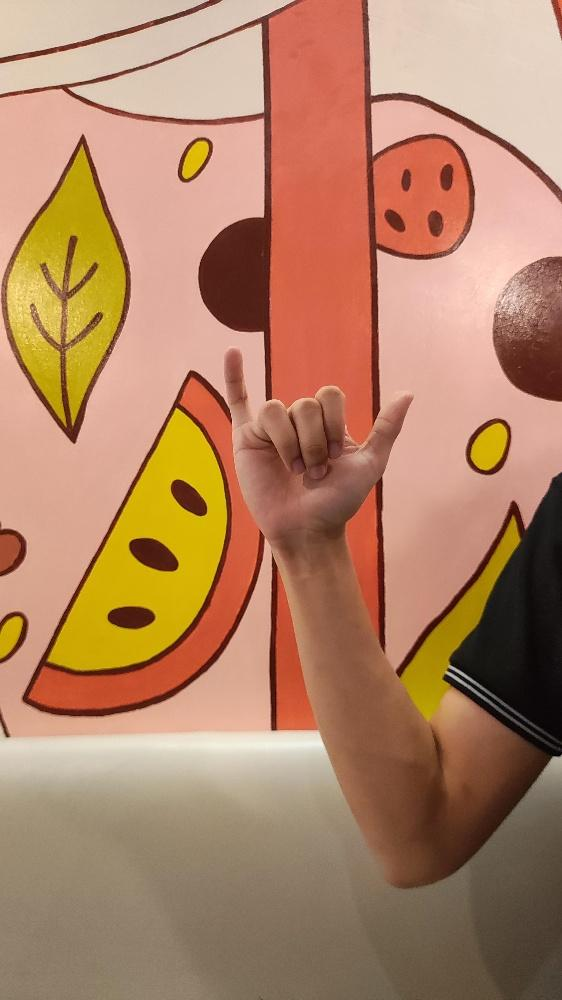y: (222, 344, 414, 548)
